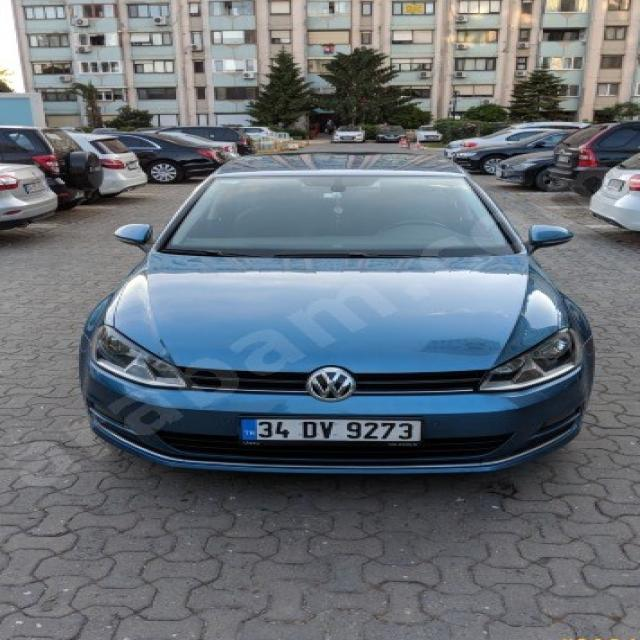license_plate: (238, 416, 422, 442)
